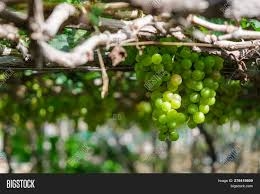grapes: (138, 50, 190, 142), (187, 49, 217, 122)
